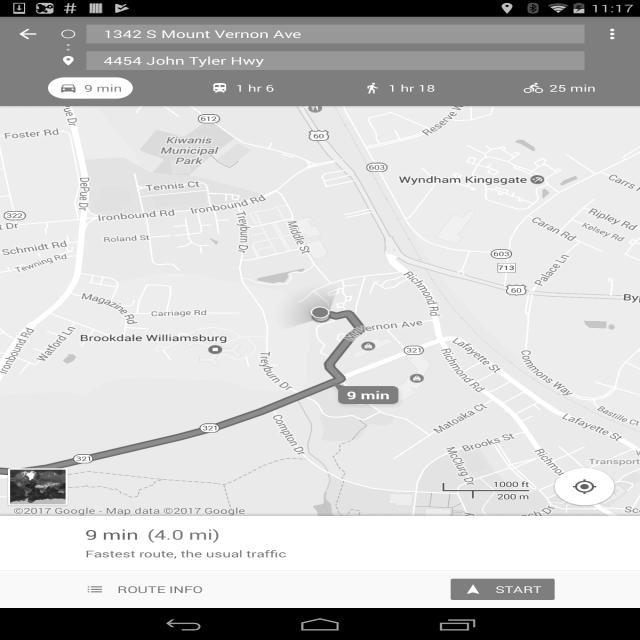Button: (10, 470, 66, 504)
EditText: (86, 17, 584, 47), (86, 47, 584, 77)
ImageView: (550, 465, 619, 508), (10, 470, 66, 504), (587, 25, 638, 43), (12, 25, 42, 43), (54, 38, 81, 57), (56, 51, 81, 70), (56, 25, 81, 43), (94, 595, 119, 611), (59, 82, 78, 94), (210, 82, 229, 94), (363, 82, 382, 94), (524, 82, 543, 94), (463, 584, 482, 596), (86, 584, 104, 596)
TextView: (85, 548, 287, 562), (145, 596, 344, 610), (103, 27, 302, 41), (0, 505, 245, 516), (103, 53, 264, 68), (147, 526, 220, 544), (104, 583, 202, 596), (85, 526, 139, 544), (482, 583, 554, 596), (388, 82, 435, 94), (549, 82, 596, 94), (84, 82, 122, 94), (236, 82, 274, 94)
